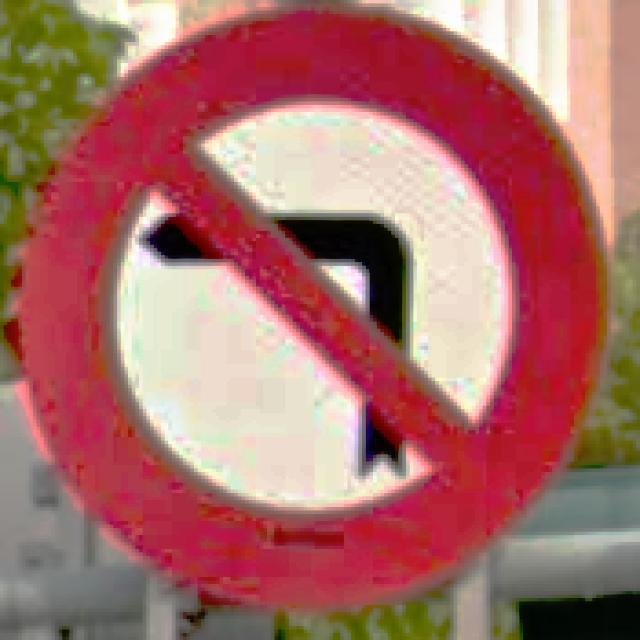noturnleft: (8, 0, 614, 612)
